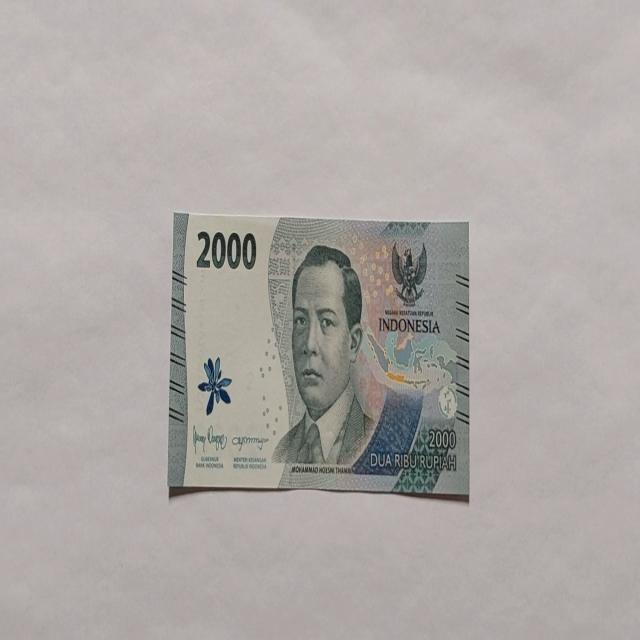dua ribu rupiah: (168, 210, 470, 498), (271, 244, 376, 472)
